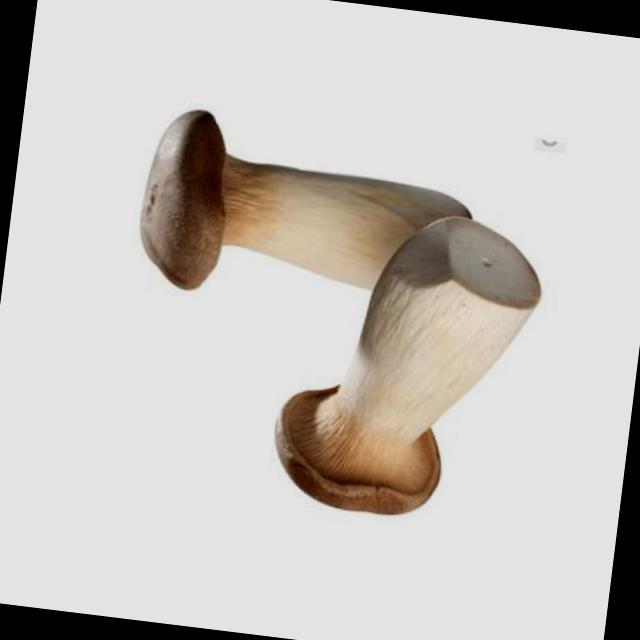Pleurotus eryngii: (262, 198, 552, 532), (130, 104, 480, 320)
